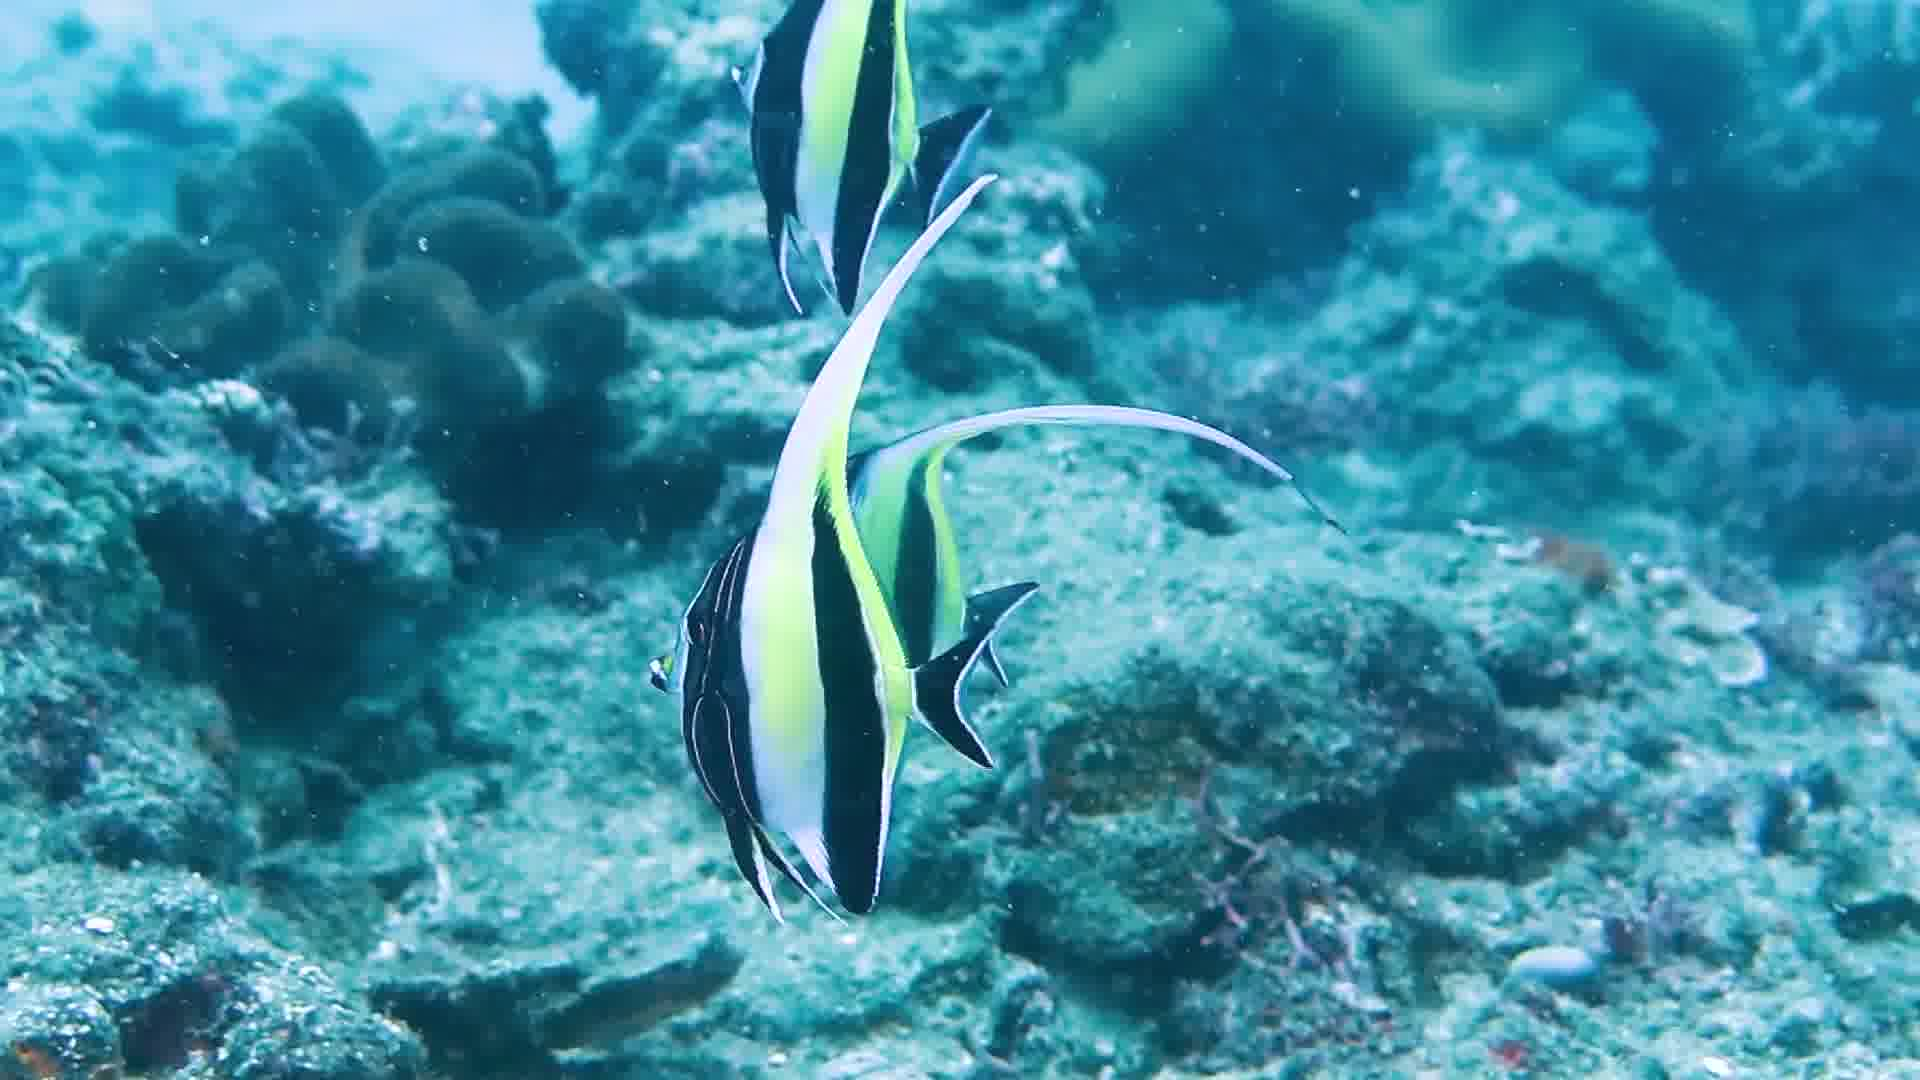Zanclus cornutus: (665, 394, 1015, 928), (673, 1, 975, 355)
